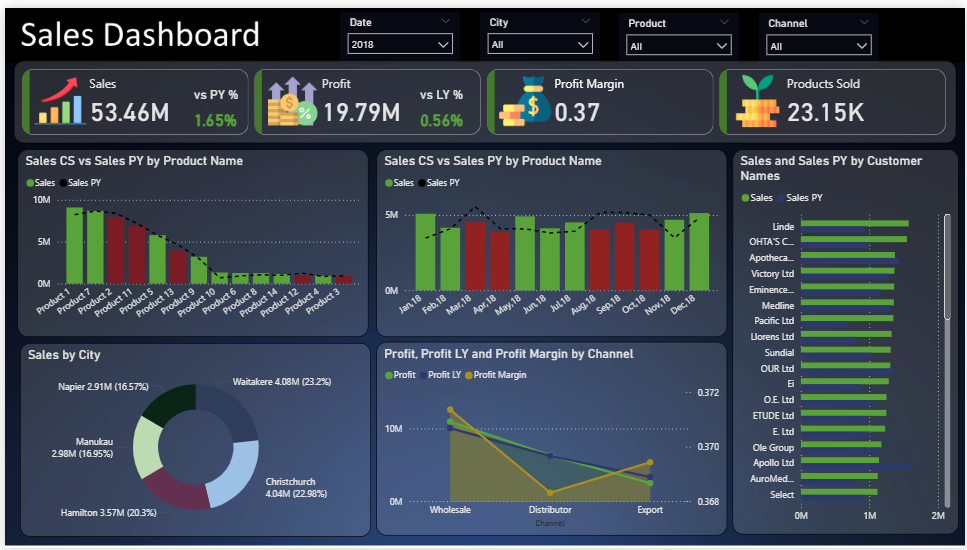

The dashboard page shown, as its layout file describes it:
{"tool":"powerbi","page":{"name":"Sales Dashboard","canvas":[1280,720],"ordinal":0},"visuals":[{"type":"slicer","fields":{"Values":["DateTable.Year","DateTable.Month Short Name Plus Year"]},"box":[447.1,5.7,160,67.1],"z":0},{"type":"slicer","fields":{"Values":["Regions_Table.City"]},"box":[632.9,5.7,160,67.1],"z":1000},{"type":"slicer","fields":{"Values":["Products_Data.Product Name"]},"box":[818.5,6.2,160,66.9],"z":2000},{"type":"slicer","fields":{"Values":["Sales_Data.Channel"]},"box":[1004.6,6.2,160,66.9],"z":3000},{"type":"lineClusteredColumnComboChart","title":"Sales CS vs Sales PY by Product Name","fields":{"Category":["Products_Data.Product Name"],"Y":["Measure Table.Sales"],"Y2":["Measure Table.Sales PY"]},"box":[16,189,468.3,250],"z":4000},{"type":"lineClusteredColumnComboChart","title":"Sales CS vs Sales PY by Product Name","fields":{"Y":["Measure Table.Sales"],"Y2":["Measure Table.Sales PY"],"Category":["DateTable.Month Short Name Plus Year"]},"box":[495,188,468.3,250],"z":5000},{"type":"donutChart","fields":{"Y":["Measure Table.Sales"],"Category":["Regions_Table.City"]},"box":[20,446.7,468.3,258.3],"z":6000},{"type":"areaChart","fields":{"Category":["Sales_Data.Channel"],"Y":["Measure Table.Profit","Measure Table.Profit LY"],"Y2":["Measure Table.Profit Margin"]},"box":[495,445,468.3,258.3],"z":7000},{"type":"clusteredBarChart","fields":{"Y":["Measure Table.Sales","Measure Table.Sales PY"],"Category":["Customer_Data.Customer Names"]},"box":[970,188.3,301.7,513.3],"z":8000},{"type":"cardVisual","fields":{"Data":["Measure Table.Sales","Measure Table.Profit","Measure Table.Profit Margin","Measure Table.Products Sold"]},"box":[11.3,70.7,1256.7,110],"z":9000},{"type":"cardVisual","title":"vs PY %","fields":{"Data":["Measure Table.Sales vs py %"]},"box":[246.7,105,80,65],"z":10000},{"type":"cardVisual","title":"vs LY %","fields":{"Data":["Measure Table.Profit vs LY %"]},"box":[548.3,105,116.7,95],"z":11000}]}

Visuals, with their boxes in screenshot pixels (x1, y1, x2, y2), scaled from the page's 1280x720 canvas onto the 967x550 screenshot:
slicer - DateTable.Year x DateTable.Month Short Name Plus Year: [338,4,459,56]
slicer - Regions_Table.City: [478,4,599,56]
slicer - Products_Data.Product Name: [618,5,739,56]
slicer - Sales_Data.Channel: [759,5,880,56]
"Sales CS vs Sales PY by Product Name" lineClusteredColumnComboChart: [12,144,366,335]
"Sales CS vs Sales PY by Product Name" lineClusteredColumnComboChart: [374,144,728,335]
donutChart - Measure Table.Sales x Regions_Table.City: [15,341,369,539]
areaChart - Sales_Data.Channel x Measure Table.Profit: [374,340,728,537]
clusteredBarChart - Measure Table.Sales x Measure Table.Sales PY: [733,144,961,536]
cardVisual - Measure Table.Sales x Measure Table.Profit: [9,54,958,138]
"vs PY %" cardVisual: [186,80,247,130]
"vs LY %" cardVisual: [414,80,502,153]
